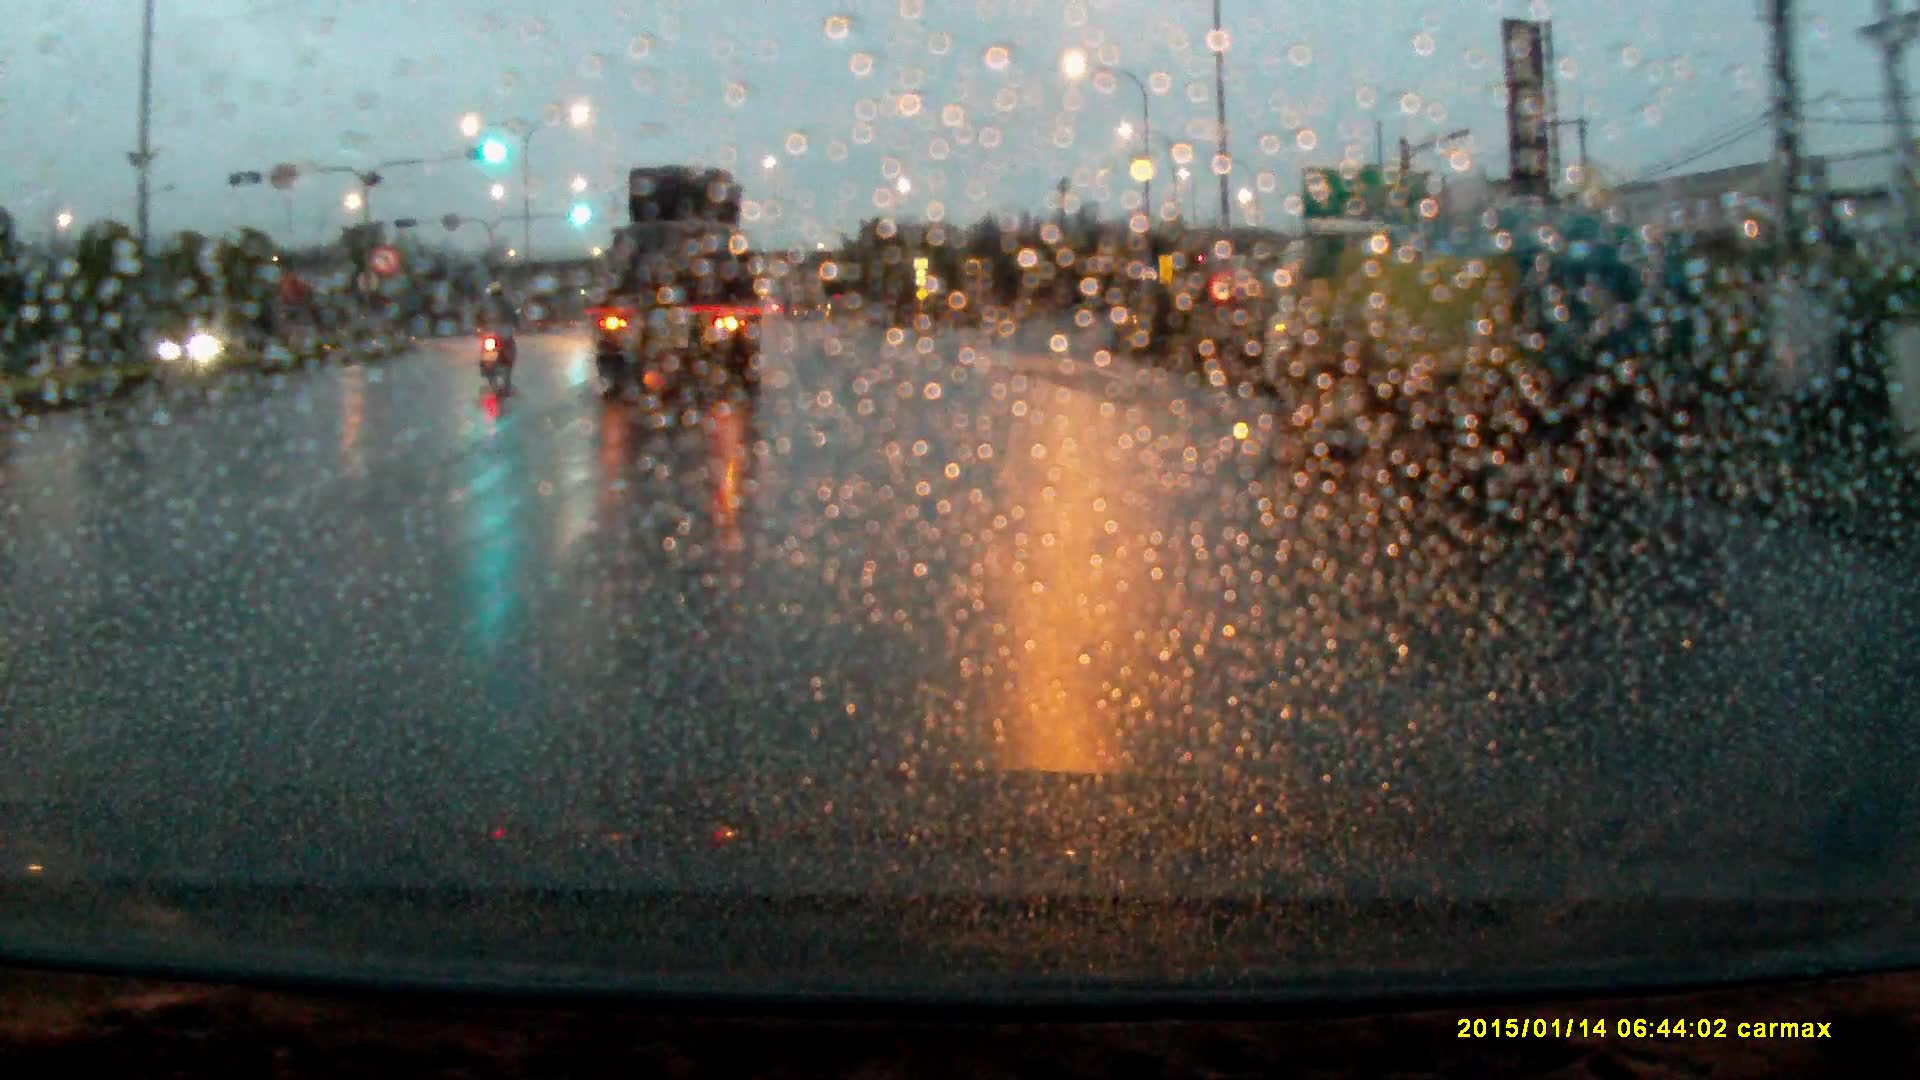rider: (474, 285, 522, 397)
vehicle: (1261, 205, 1683, 483), (589, 170, 765, 401)
